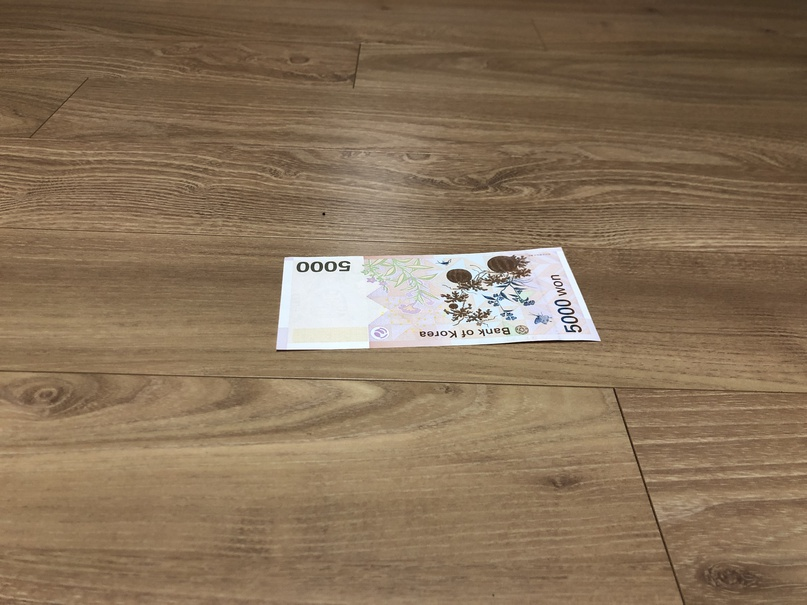5000won: (276, 246, 601, 353)
